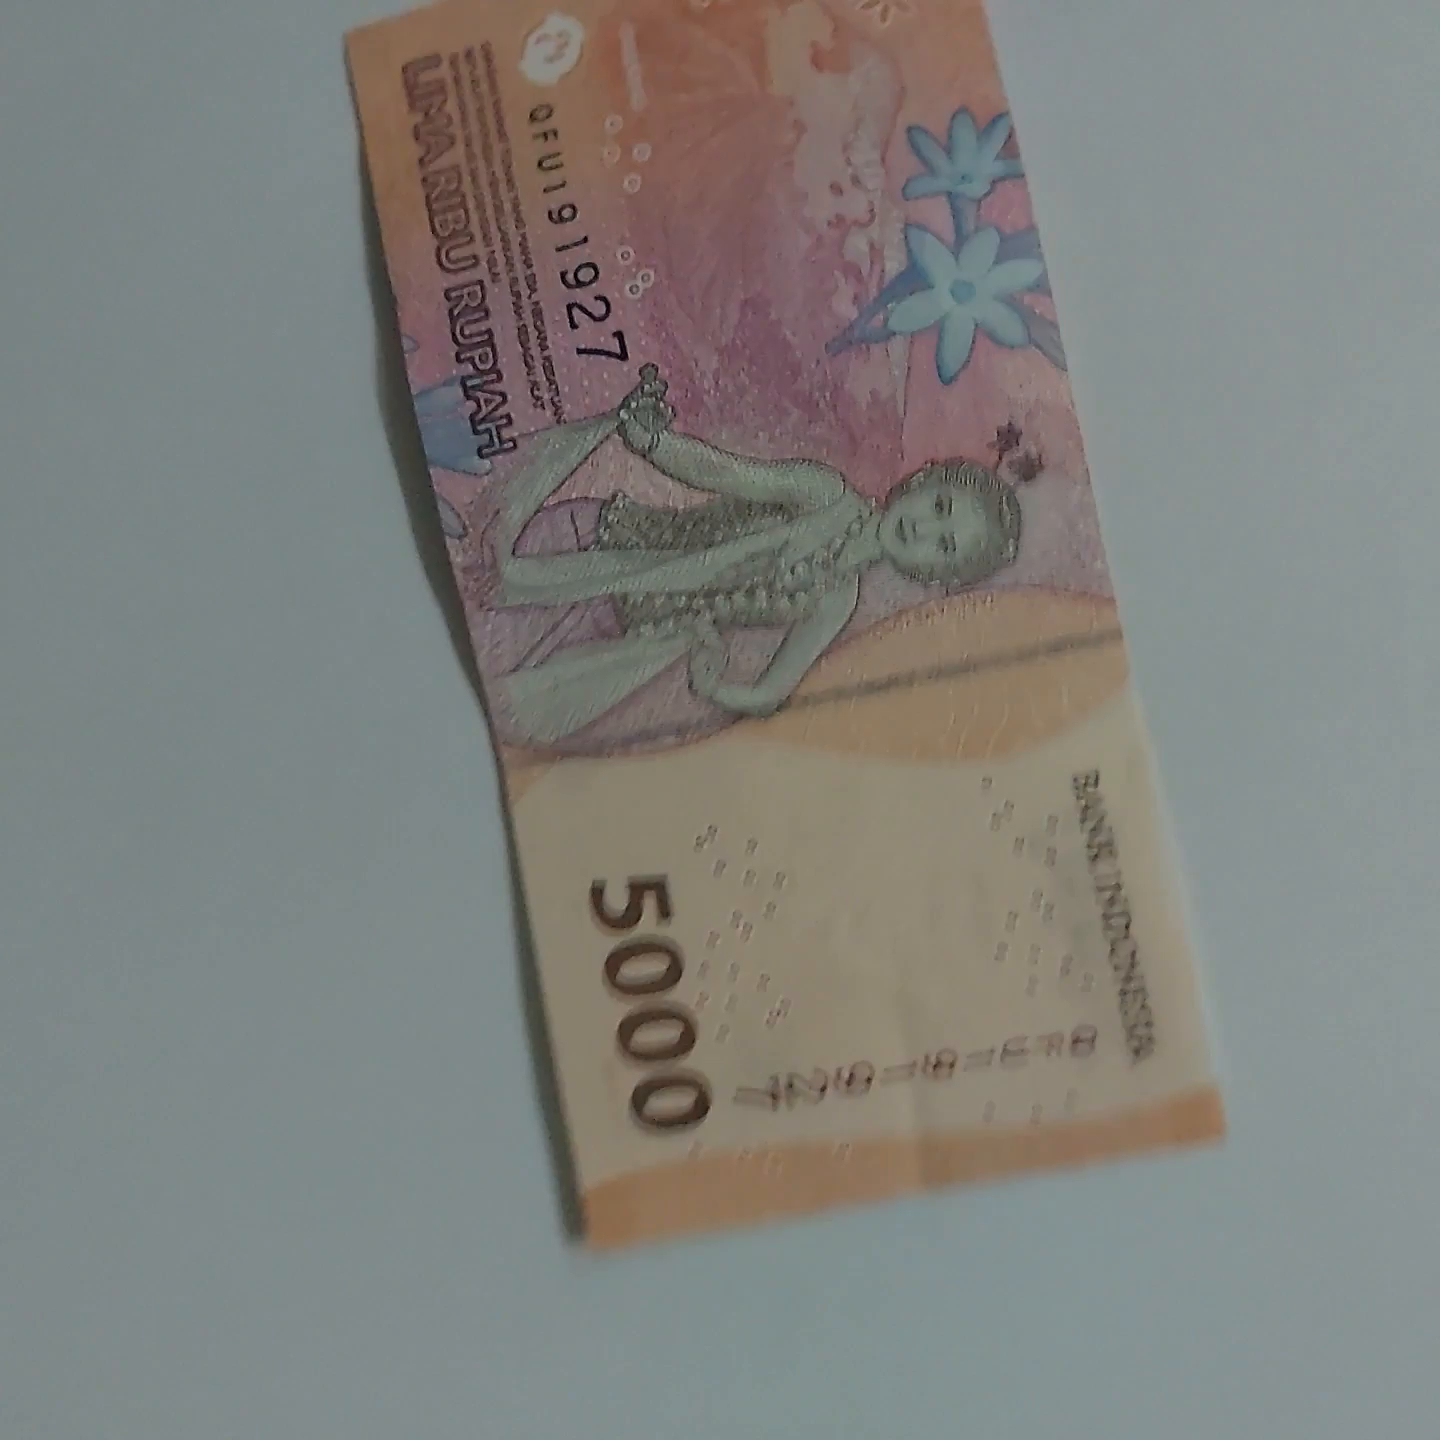5k: (328, 0, 1234, 1159)
